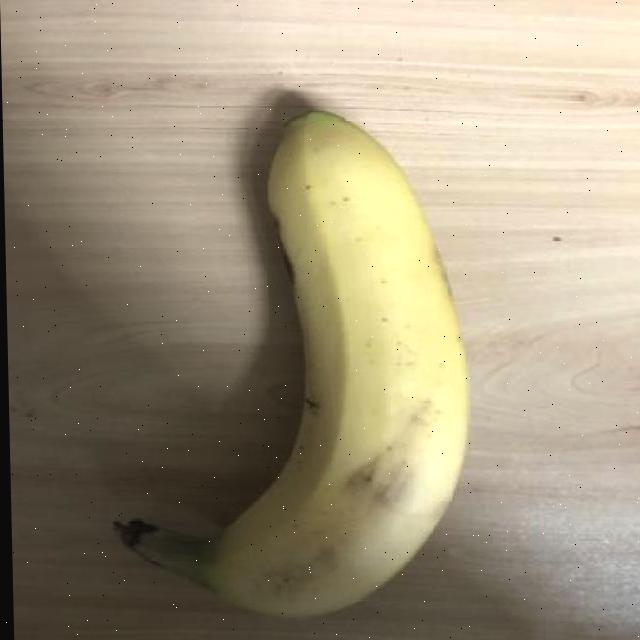banana: (103, 96, 471, 621)
